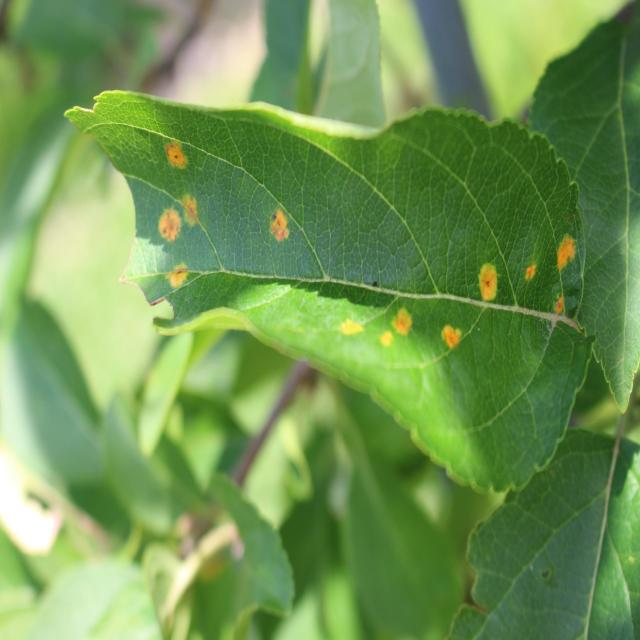rust: (66, 85, 591, 501)
